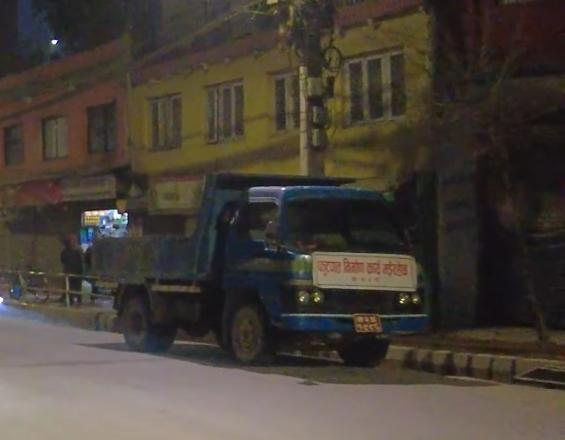mini_truck: (80, 168, 440, 375)
